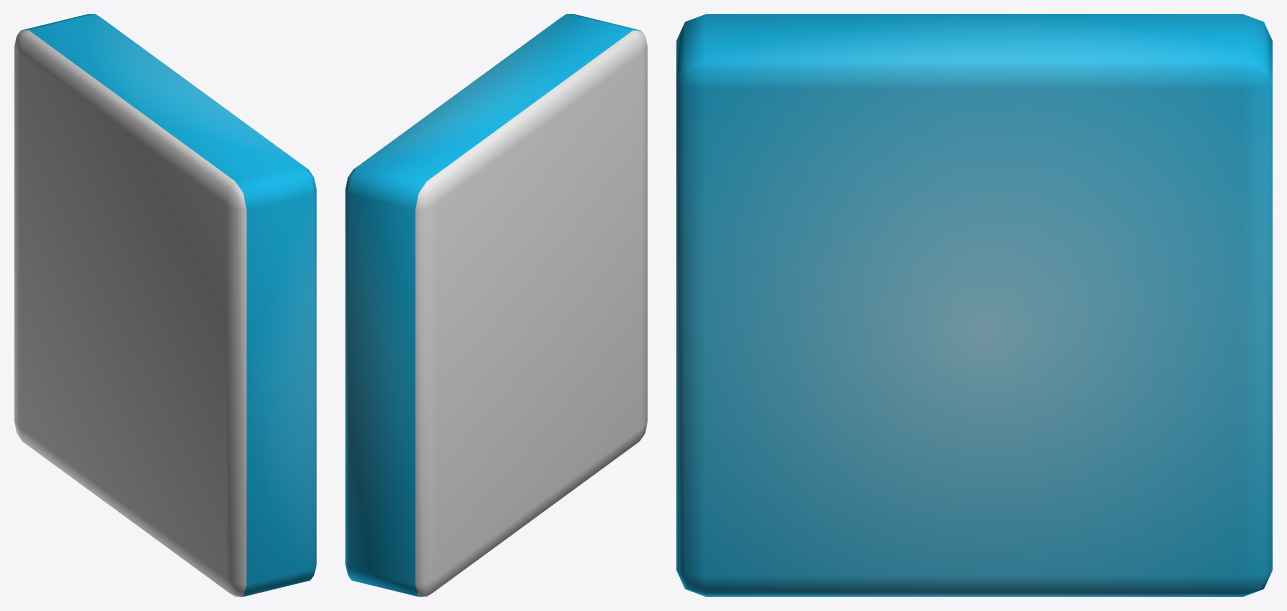
Rendered from left_light_button_on.glb.
3 renders of one model, left to right at view 1: azimuth 30°, elevation 25°; view 2: azimuth 150°, elevation 25°; view 3: azimuth 270°, elevation 25°, orthographic. The views are drawn at different scales.
Visible parts, largest first — view 1: LeftLightButtonOn; view 2: LeftLightButtonOn; view 3: LeftLightButtonOn.
Part boxes in pixels (x1,y1,x2,y2): LeftLightButtonOn: [14, 14, 316, 596]; LeftLightButtonOn: [345, 14, 647, 596]; LeftLightButtonOn: [676, 14, 1272, 596].
Size of the model in its own units: 0.0721 by 0.3354 by 0.3354.
Materials: 2 (1 with a texture image).
